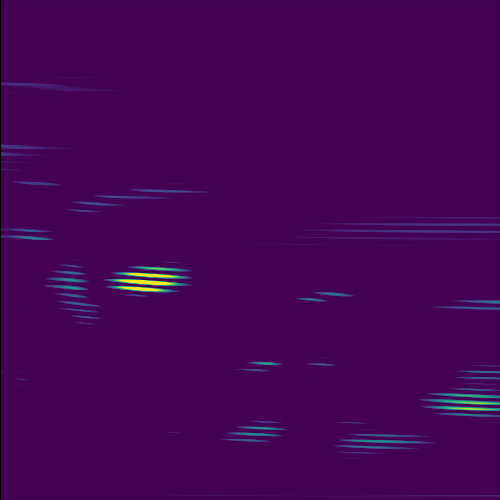semblance: (101, 263, 194, 298), (419, 388, 500, 422)
